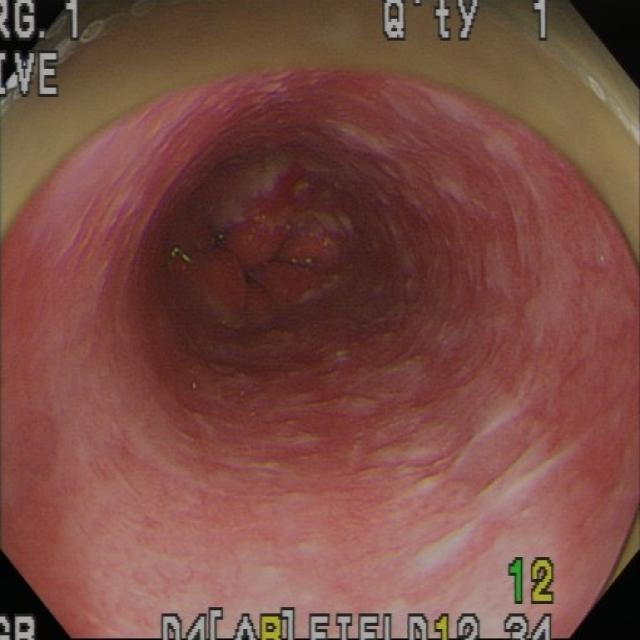I: (178, 186, 351, 333)
J: (66, 364, 323, 608), (356, 353, 582, 583), (376, 168, 614, 350), (24, 95, 208, 270), (332, 82, 492, 167), (203, 151, 298, 220)
S: (160, 608, 483, 640), (383, 3, 558, 45), (3, 3, 83, 45), (3, 50, 63, 101), (507, 558, 556, 608), (506, 614, 556, 640), (2, 614, 39, 640)
U: (170, 247, 193, 270)
